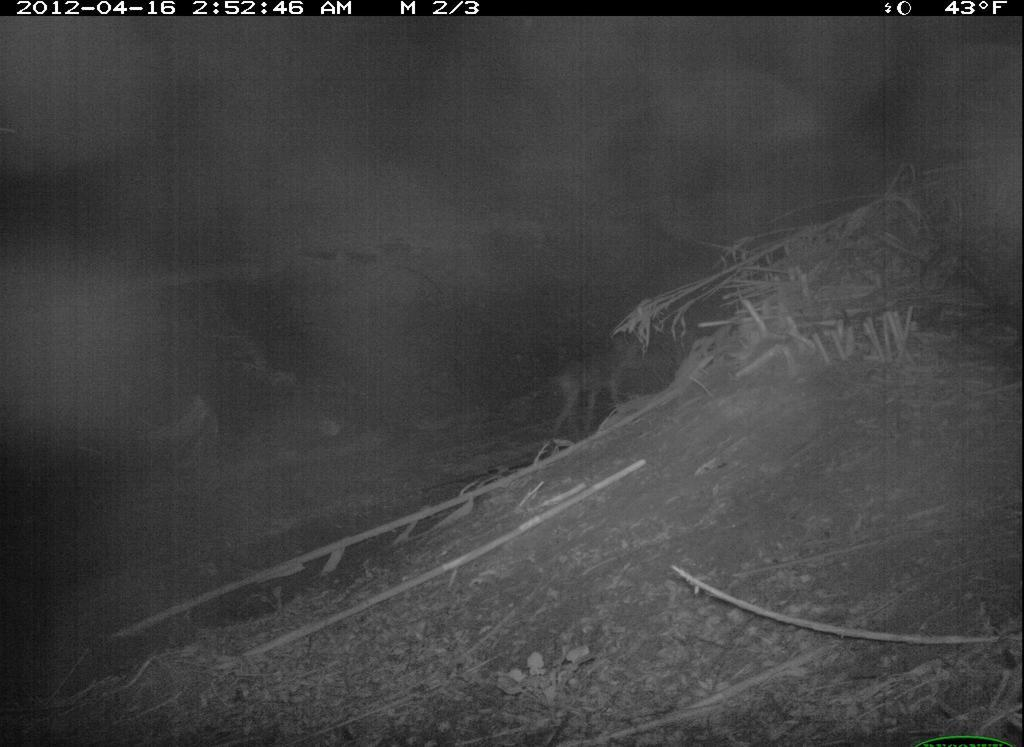coyote: (545, 327, 646, 451)
